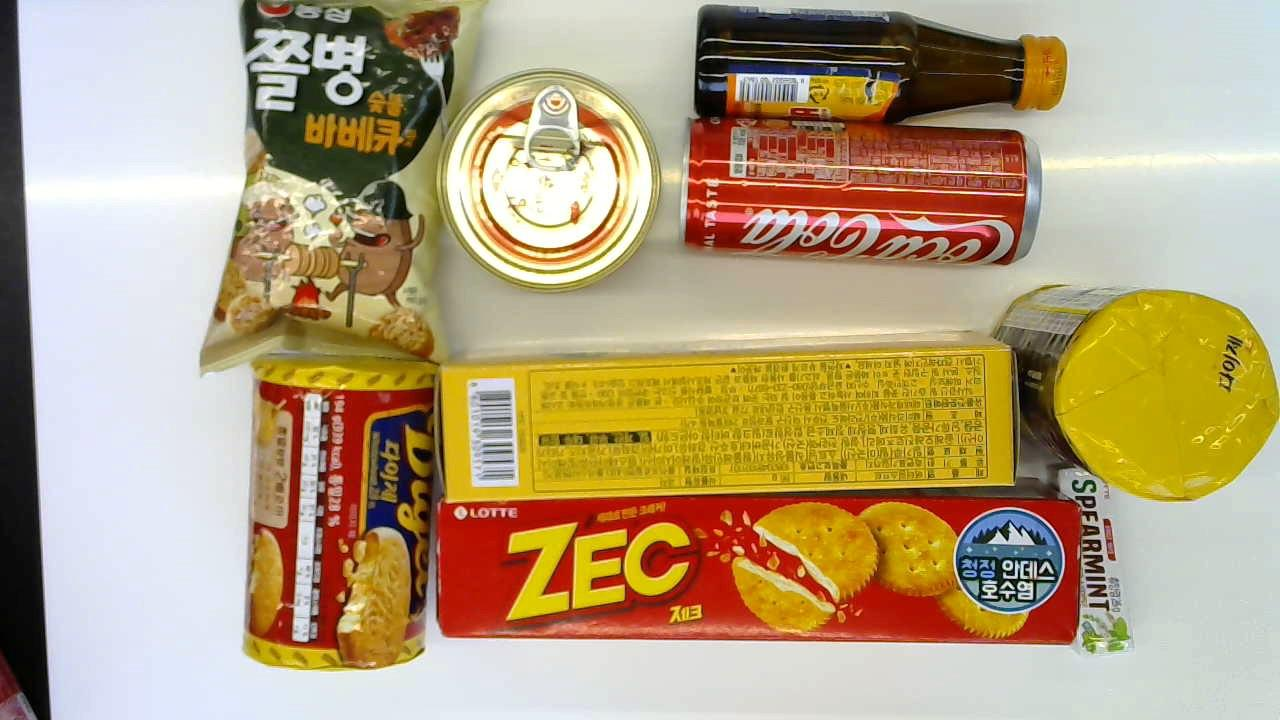buttering: (429, 329, 1020, 504)
coke: (677, 109, 1043, 273)
diget_choco: (991, 283, 1273, 501)
diget_ori: (242, 358, 440, 672)
jjolbyung_ori: (195, 0, 487, 383)
spearmint: (1050, 468, 1135, 658)
tuna: (436, 66, 663, 290)
vita500: (688, 2, 1065, 131)
zec: (436, 476, 1077, 646)
